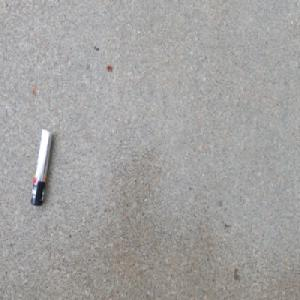Battery: (29, 127, 54, 210)
